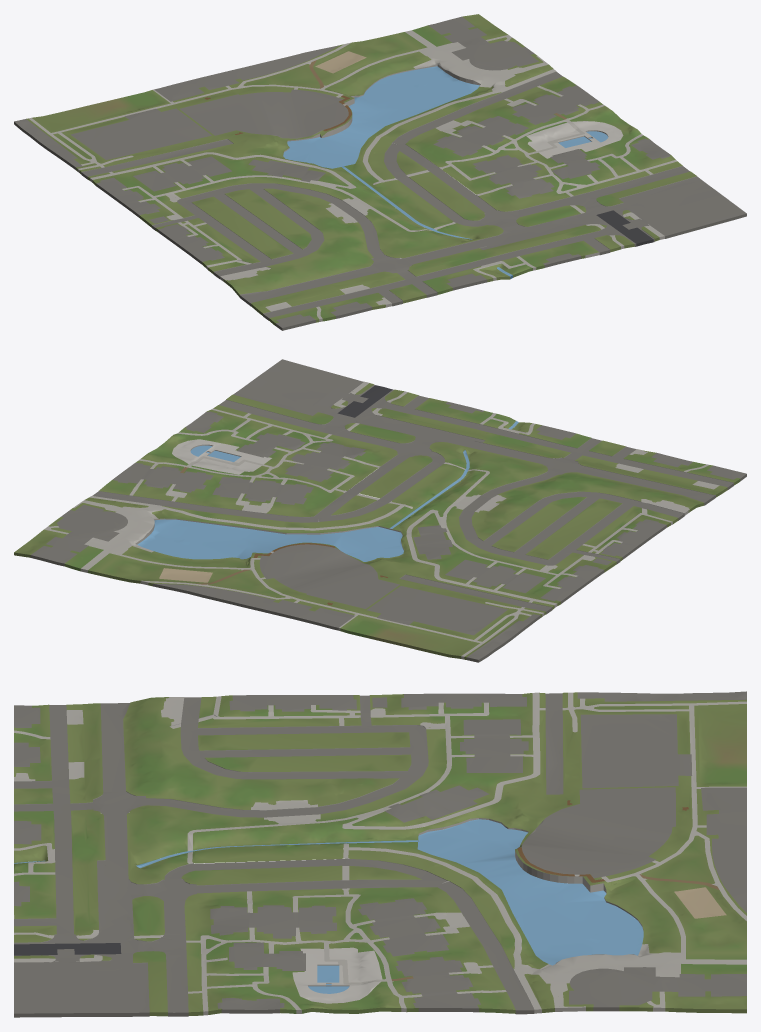
3 views of the same model, one above another, from view 1: azimuth 30°, elevation 25°; view 2: azimuth 150°, elevation 25°; view 3: azimuth 270°, elevation 25° (orthographic). The views are drawn at different scales.
Visible parts, largest first — view 1: T--2--1.L2:utd:matte, T--2--1.L2:utd:water; view 2: T--2--1.L2:utd:matte, T--2--1.L2:utd:water; view 3: T--2--1.L2:utd:matte, T--2--1.L2:utd:water.
Part boxes in pixels (x1,y1,x2,y2): T--2--1.L2:utd:matte: (14, 14, 746, 330); T--2--1.L2:utd:water: (283, 66, 608, 276); T--2--1.L2:utd:matte: (14, 359, 746, 662); T--2--1.L2:utd:water: (137, 421, 518, 561); T--2--1.L2:utd:matte: (14, 691, 746, 1017); T--2--1.L2:utd:water: (14, 819, 643, 993).
Bounding box in the file's own units: 256 × 9.16 × 256.
